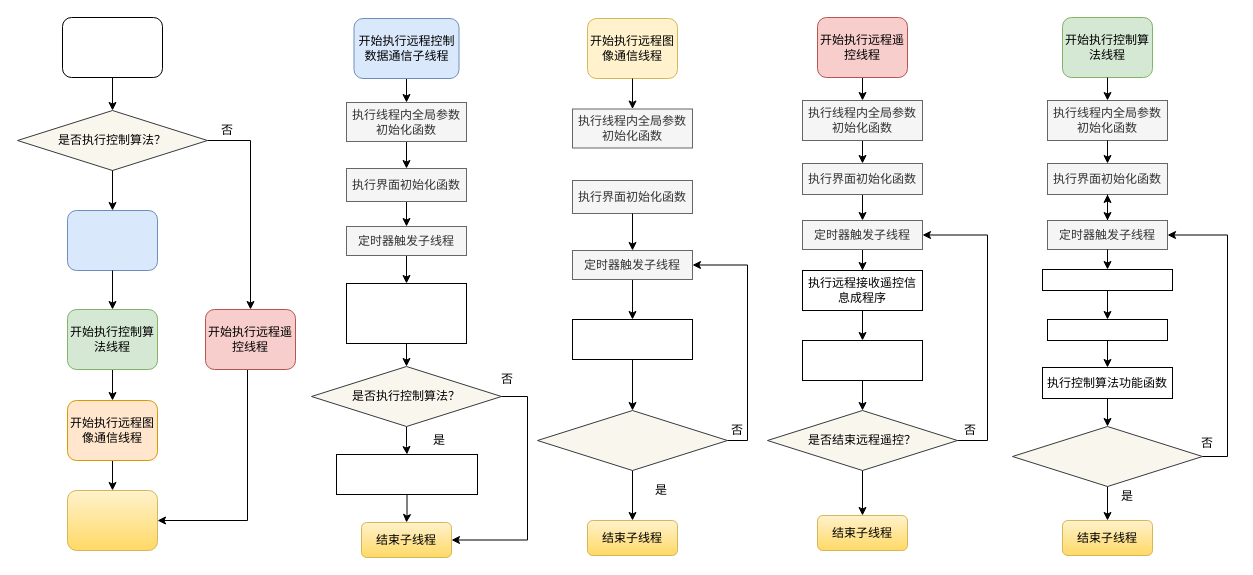
Image size: 1253x575. Some labels were removed from this diagram. Each missing label, with the centre of its shape:
"向电机输出对应的PWM信号" goes at point 862,360.
"开始执行远程控制数据通信线程" goes at point 112,240.
"开始运行SRUSV控制主线程" goes at point 112,47.
"执行制导算法函数" goes at point 1107,329.
"执行轨迹生成算法函数" goes at point 1107,279.
"是否执结束读取图像？" goes at point 632,440.
"是否控制算法？" goes at point 1107,456.
"结束主线程" goes at point 112,520.
"调用Mavlink数据发送程序（发送SRUSV控制指令）" goes at point 407,474.
"调用Mavlink数据接收函数（接收SRUSV运行及姿态数据）" goes at point 406,313.
"调用SDK包函数执行图像读取程序" goes at point 632,339.
